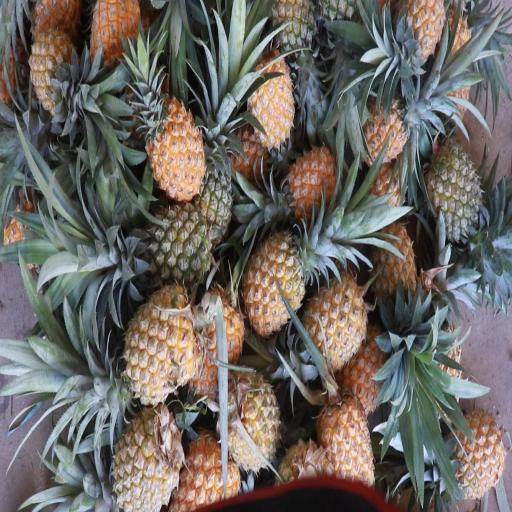Pineapple - v8 v1: (120, 277, 198, 409), (301, 261, 375, 375), (240, 228, 311, 339), (111, 406, 184, 512), (168, 415, 244, 512), (218, 356, 282, 470), (187, 283, 247, 403), (144, 86, 206, 201), (318, 380, 379, 496), (243, 40, 295, 162), (277, 144, 343, 230), (22, 15, 81, 111), (364, 215, 422, 308), (350, 88, 403, 186), (450, 403, 504, 497), (85, 0, 145, 83), (395, 0, 453, 72)
